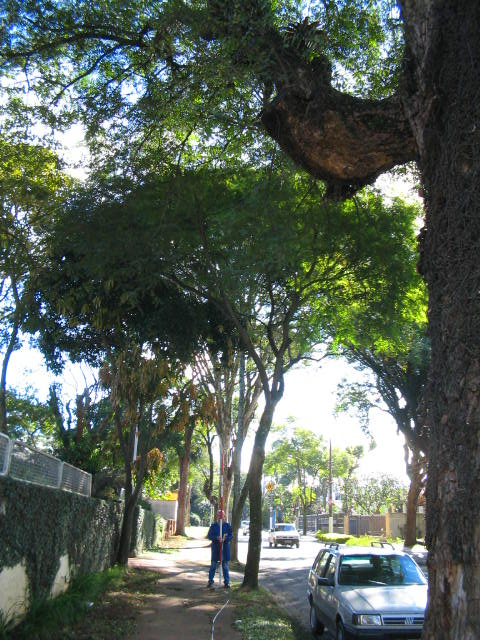crown: (42, 159, 420, 361)
stem: (236, 400, 278, 591)
stick: (214, 452, 229, 587)
tree: (39, 157, 421, 592)
